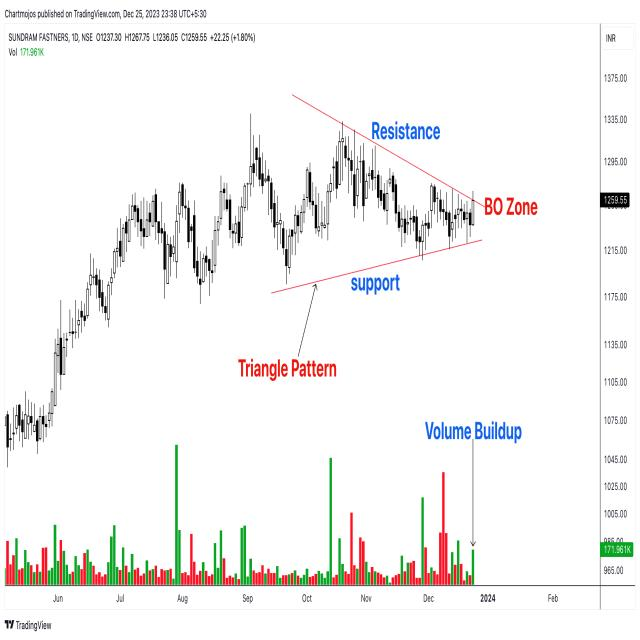Triangle: (242, 69, 515, 298)
